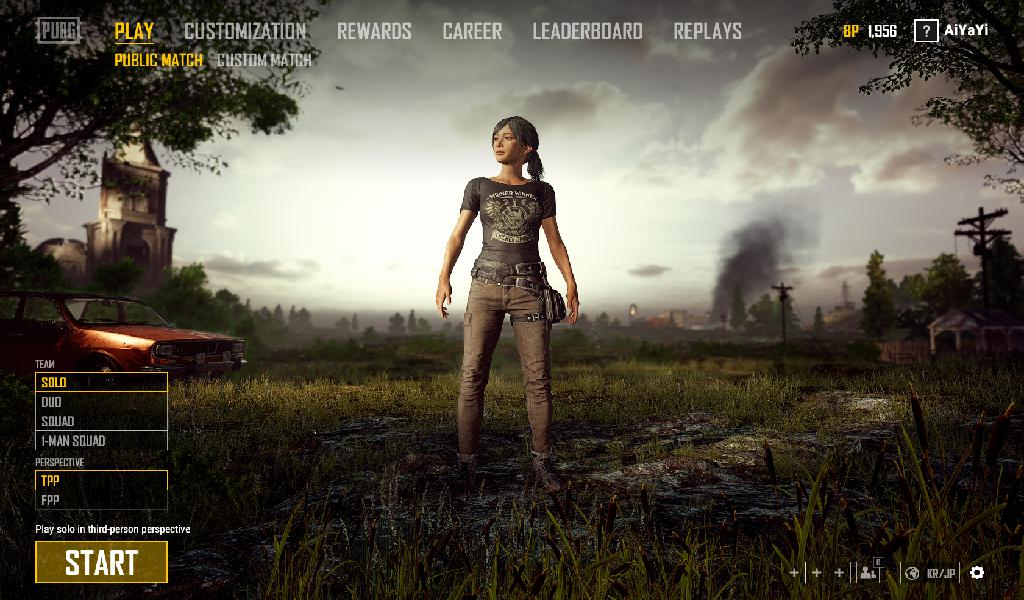Target Person: (435, 116, 581, 500)
